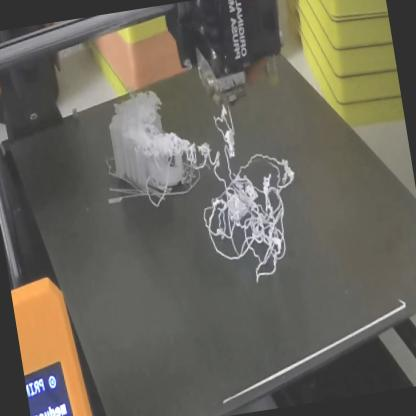fail: (179, 98, 313, 292), (108, 87, 185, 175)
